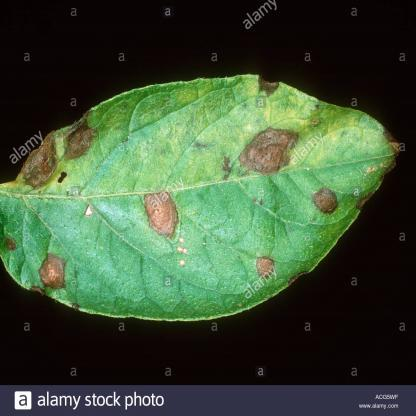Potato leaf late blight: (0, 74, 398, 316)
